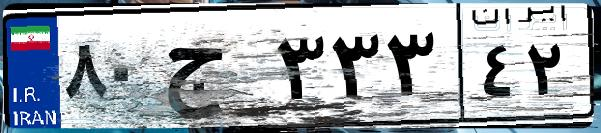0: (110, 28, 158, 98)
2: (525, 38, 570, 115)
3: (270, 28, 330, 110), (385, 28, 445, 110), (330, 28, 385, 110)
4: (475, 38, 525, 113)
8: (57, 26, 110, 100)
ج: (158, 20, 270, 120)
